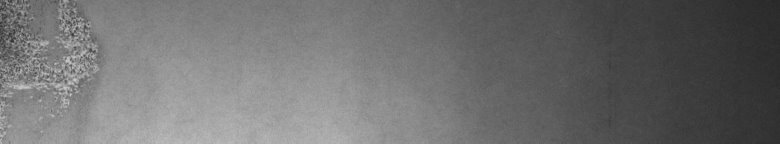hc: (4, 4, 101, 134)
